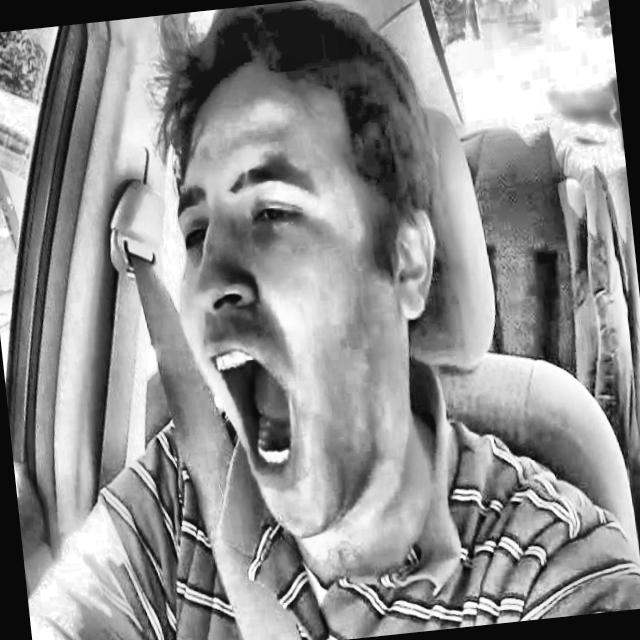open_eyes: (239, 188, 312, 246)
open_mouth: (188, 325, 333, 502)
